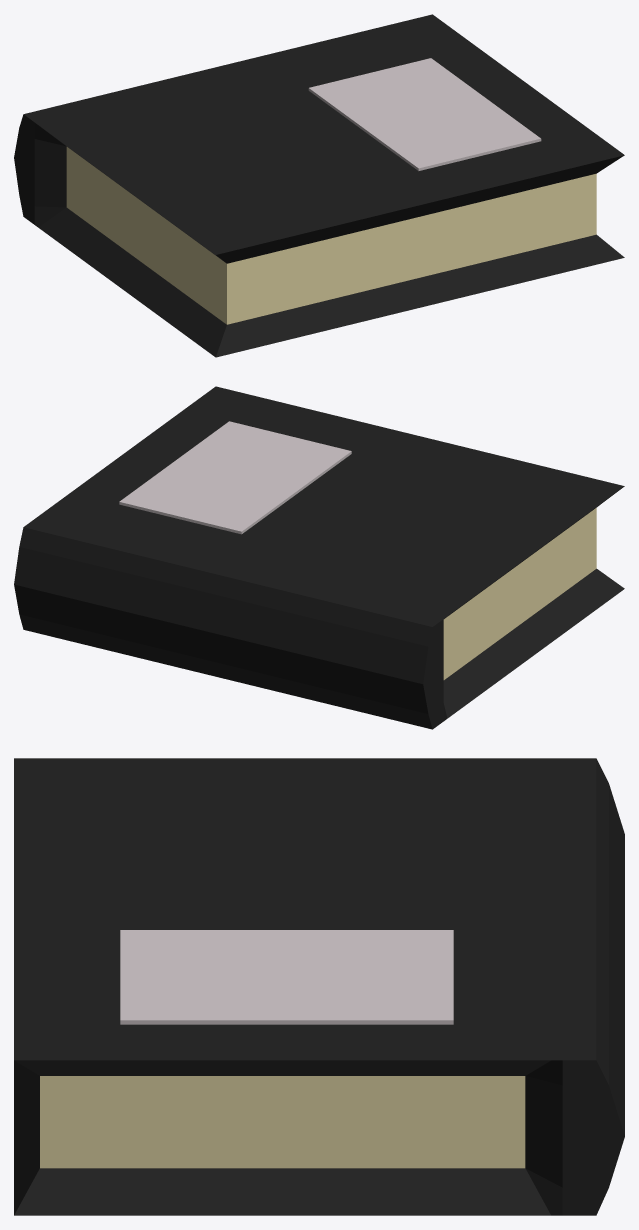
File: white-book.fbx
3 views of the same model, one above another, from view 1: azimuth 30°, elevation 25°; view 2: azimuth 150°, elevation 25°; view 3: azimuth 270°, elevation 25° (orthographic). The views are drawn at different scales.
Parts seen in each view (by area): view 1: Cube; view 2: Cube; view 3: Cube.
Part boxes in pixels (bbox=[...]): Cube: bbox=[14, 14, 624, 357]; Cube: bbox=[14, 386, 624, 729]; Cube: bbox=[14, 758, 624, 1215].
Size of the model in its own units: 200 by 49.19 by 171.
